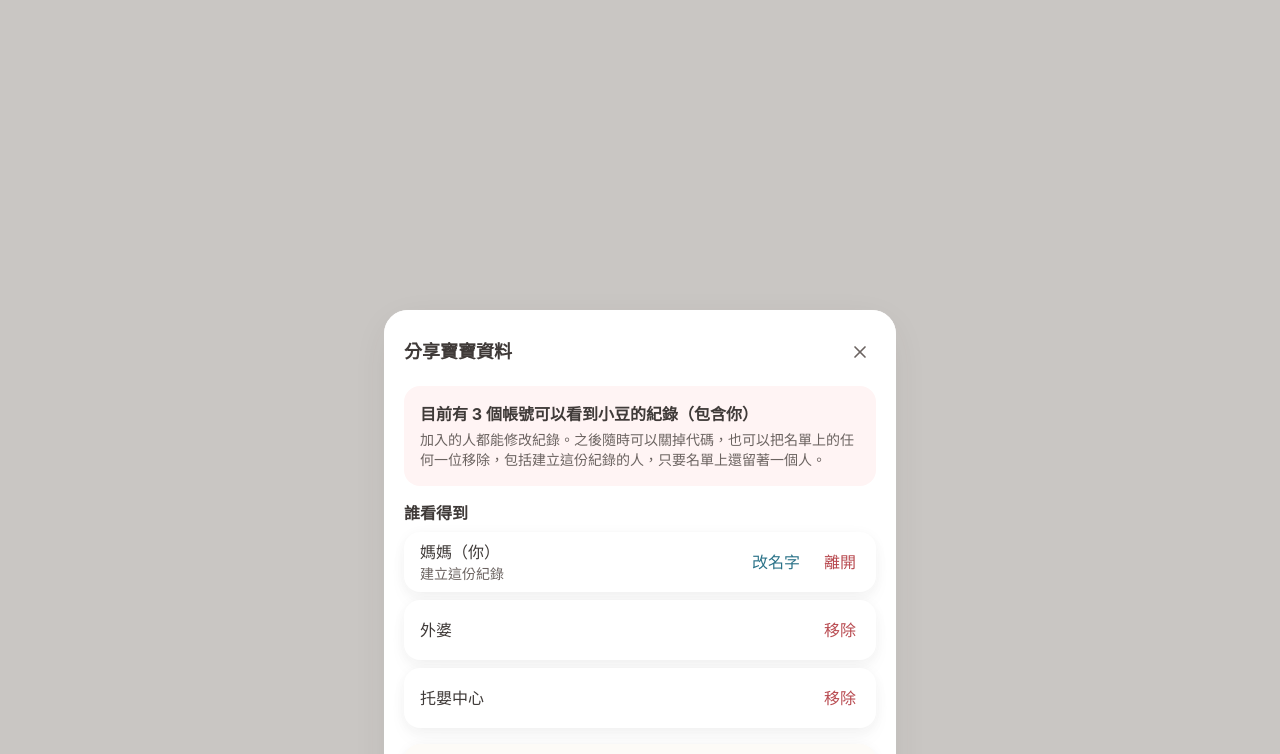
Scenario: 名單：看得到是誰，一次移除一個 › 離開被拒時說的是自己還在名單上，窗不關
What coordinates should you click on to do the following:
click the button with aria-label "離開這份紀錄"
I would click on:
 (840, 562)
Its box is [812,540,868,584].
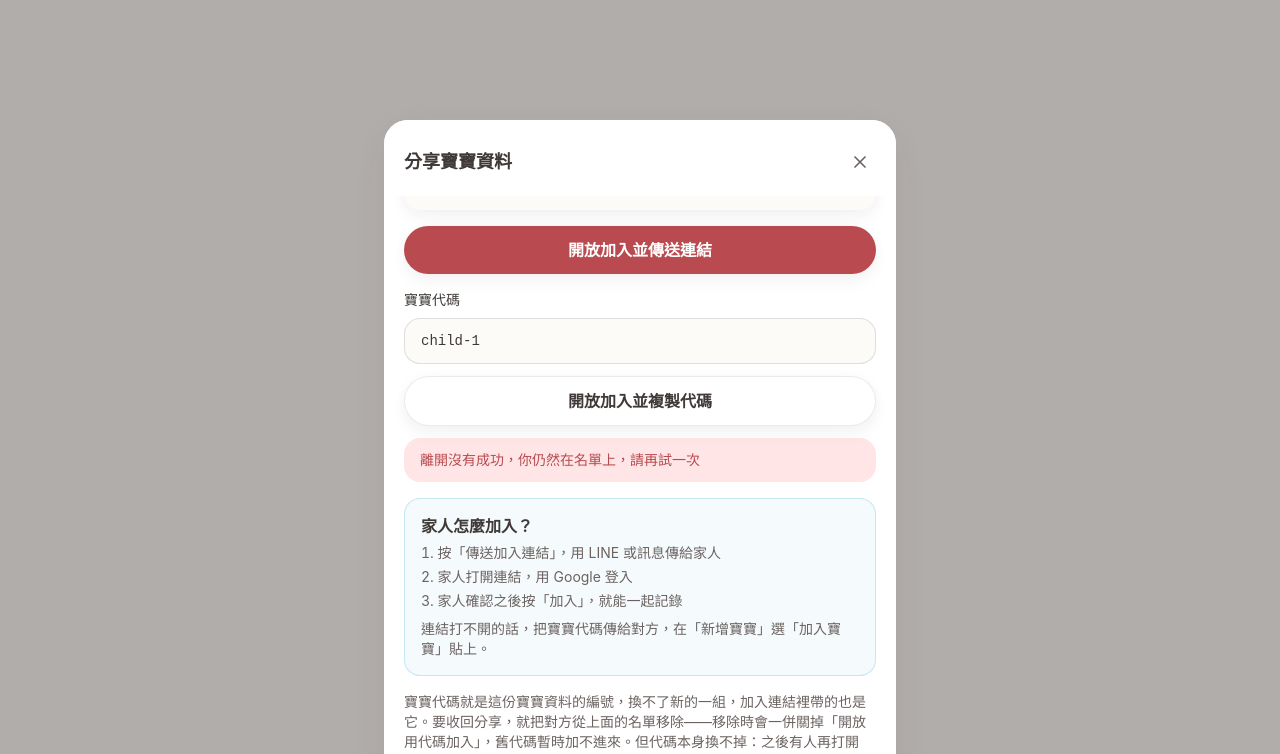
Expected: the message shows "離開沒有成功，你仍然在名單上", [420,451,700,468]
